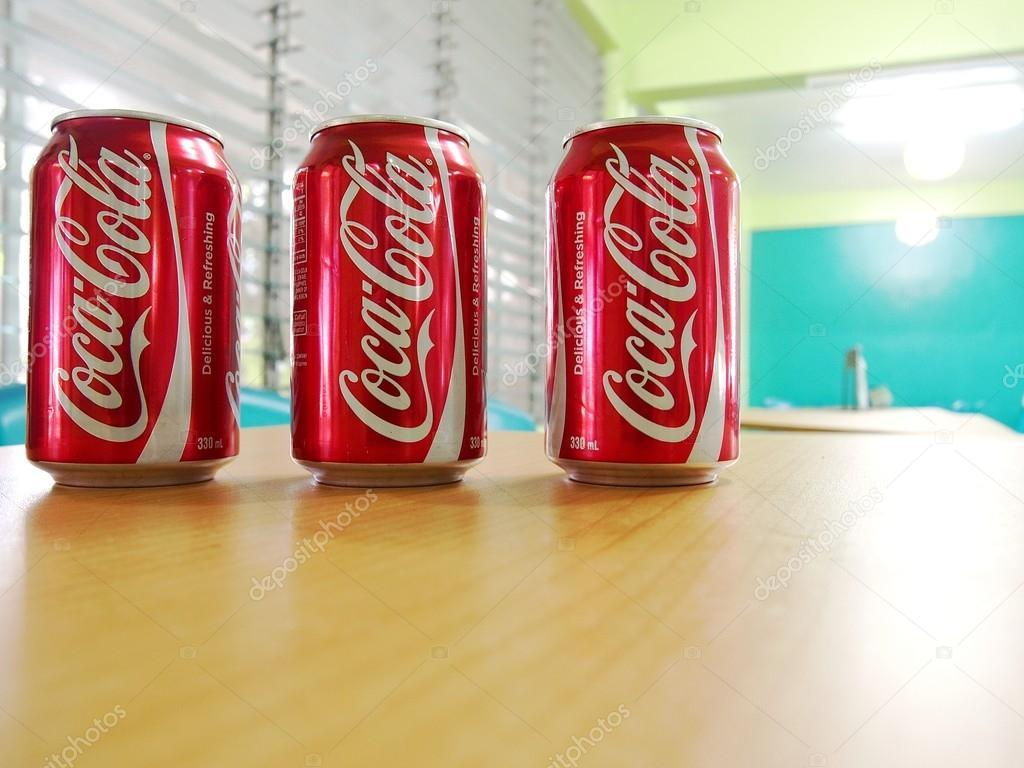can: (26, 110, 240, 487), (292, 116, 486, 487), (547, 118, 739, 486)
